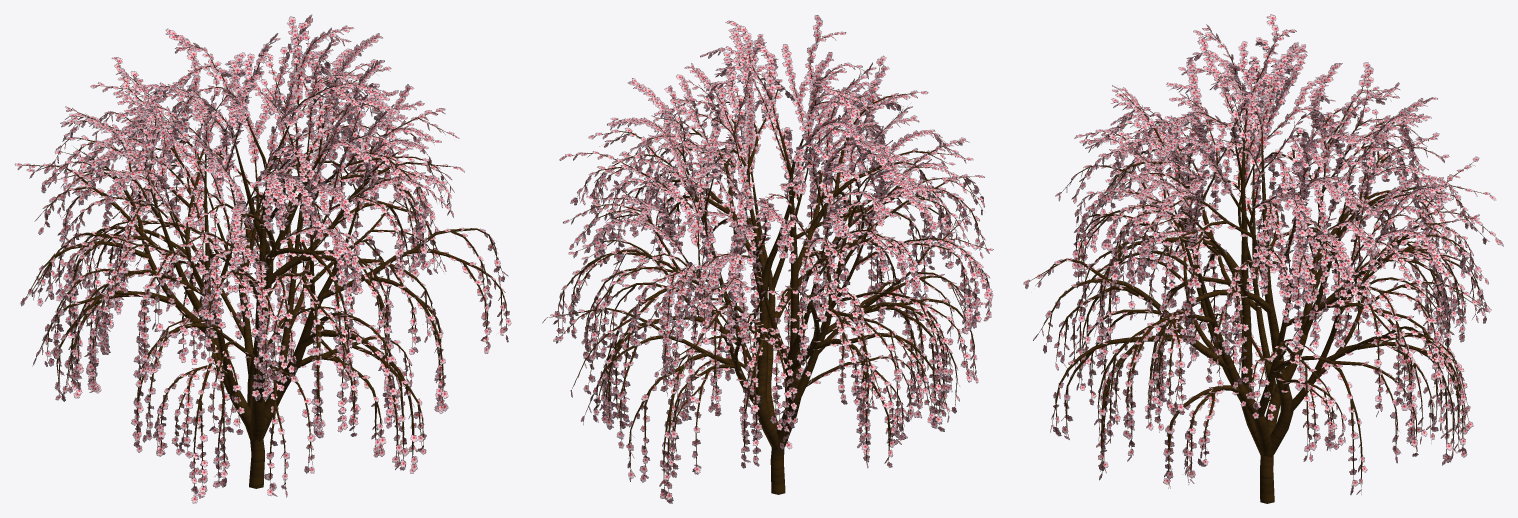
The model's file is ume_tree.glb.
3 renders of one model, left to right at view 1: azimuth 30°, elevation 25°; view 2: azimuth 150°, elevation 25°; view 3: azimuth 270°, elevation 25°, orthographic. The views are drawn at different scales.
Parts seen in each view (by area): view 1: leaves, tree; view 2: leaves, tree; view 3: leaves, tree.
Part boxes in pixels (x1,y1,x2,y2): leaves: (14,14,511,503); tree: (22,26,506,490); leaves: (542,15,993,503); tree: (547,26,989,494); leaves: (1023,14,1503,494); tree: (1029,19,1498,503).
Size of the model in its own units: 5.84 by 6.29 by 5.8.
Materials: 2 (2 with a texture image).
